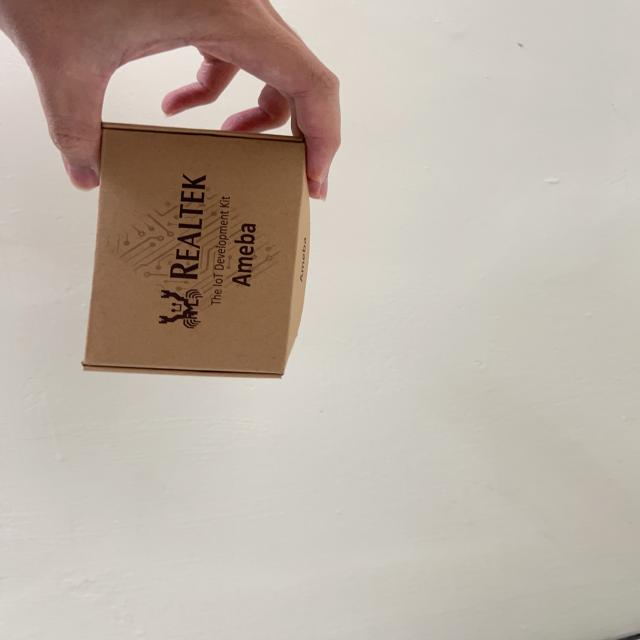box: (79, 110, 350, 375)
